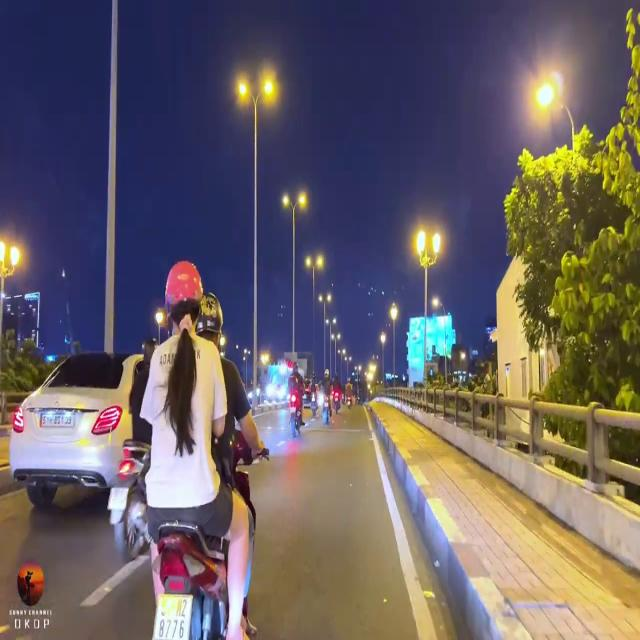bien_trang: (153, 592, 195, 640), (36, 407, 76, 428)
